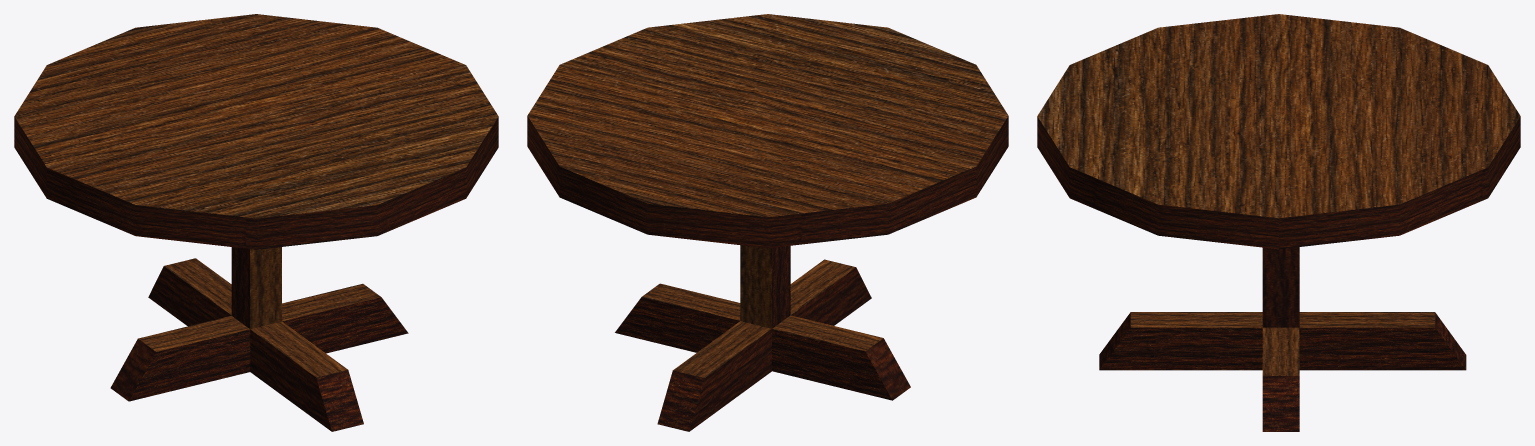
Rendered from mm9_deco_tableround5.glb.
The picture shows the model from 3 angles, left to right: view 1: azimuth 30°, elevation 25°; view 2: azimuth 150°, elevation 25°; view 3: azimuth 270°, elevation 25°; orthographic projection.
Parts seen in each view (by area): view 1: Tableround5; view 2: Tableround5; view 3: Tableround5.
Boxes of the visible parts, box(x1,y1,x2,y2) form: Tableround5: box(14, 14, 498, 431); Tableround5: box(527, 14, 1008, 431); Tableround5: box(1037, 14, 1520, 431).
Size of the model in its own units: 2.02 by 1.13 by 2.02.
2 materials, 2 textured.
